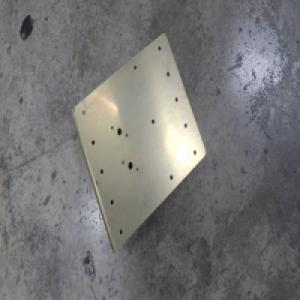MetalSheet: (68, 31, 206, 254)
